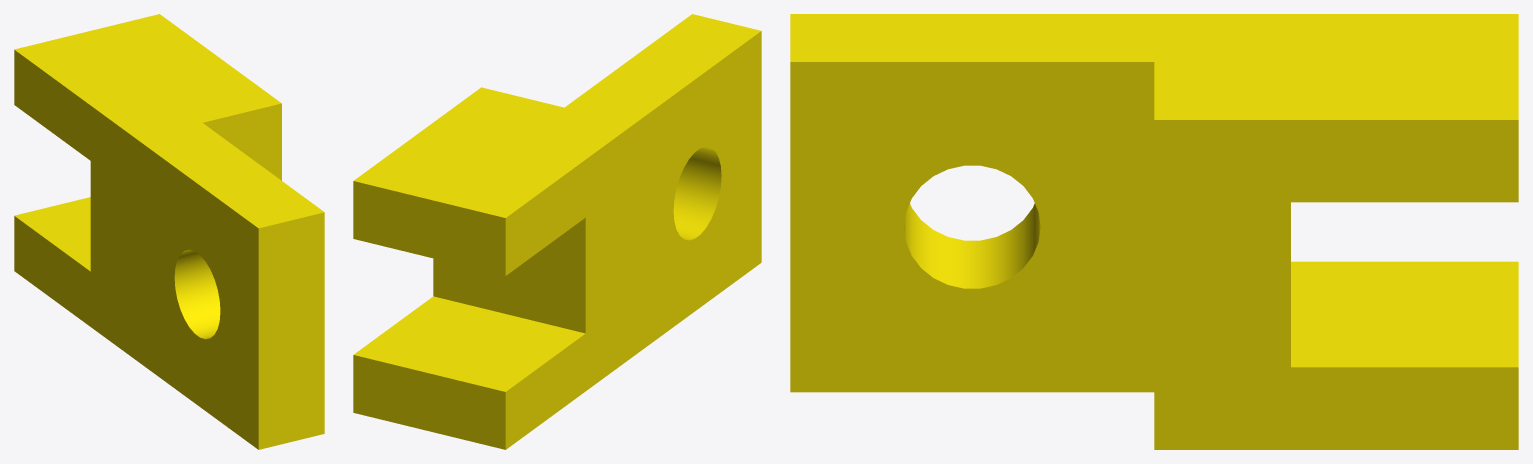
Rendered from modelo_didático_16.glb.
3 renders of one model, left to right at view 1: azimuth 30°, elevation 25°; view 2: azimuth 150°, elevation 25°; view 3: azimuth 270°, elevation 25°, orthographic. The views are drawn at different scales.
Visible parts, largest first — view 1: Modelo didatico 16.SLDPRT; view 2: Modelo didatico 16.SLDPRT; view 3: Modelo didatico 16.SLDPRT.
Boxes of the visible parts, bbox=[...] form: Modelo didatico 16.SLDPRT: bbox=[14, 14, 324, 449]; Modelo didatico 16.SLDPRT: bbox=[353, 14, 761, 449]; Modelo didatico 16.SLDPRT: bbox=[790, 14, 1518, 449].
Bounding box in the file's own units: 0.022 × 0.032 × 0.064.
